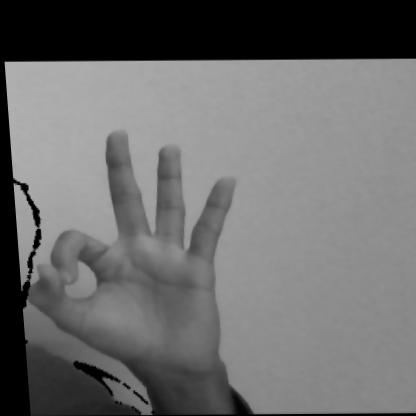ok: (13, 124, 254, 400)
